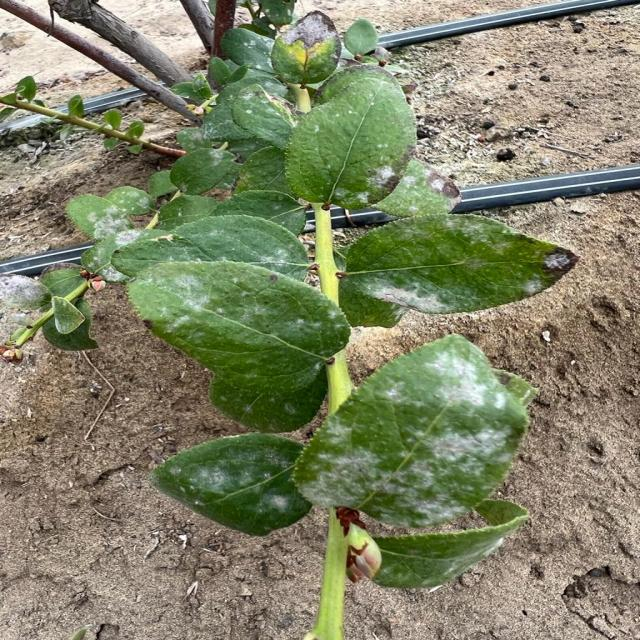Hojas con oidiosis: (308, 350, 513, 514), (322, 90, 411, 206), (173, 453, 312, 523), (350, 260, 462, 318), (152, 254, 234, 328), (71, 197, 159, 247), (275, 10, 337, 62)
